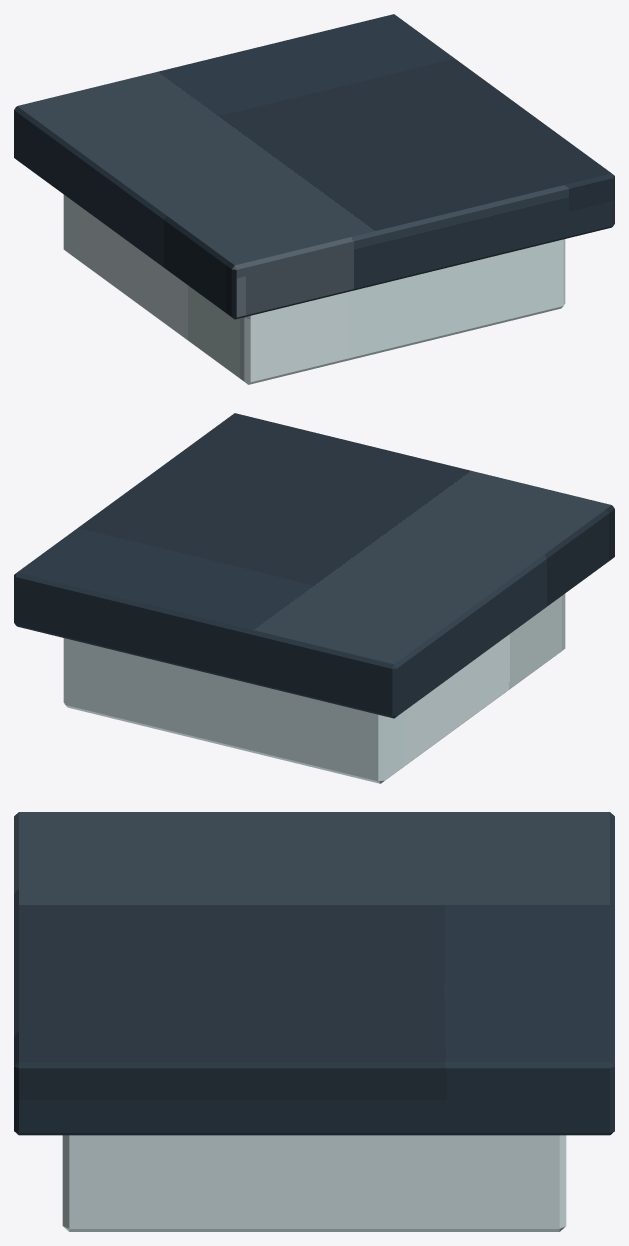
The model's file is ceiling_light_cool.glb.
3 views of the same model, one above another, from view 1: azimuth 30°, elevation 25°; view 2: azimuth 150°, elevation 25°; view 3: azimuth 270°, elevation 25° (orthographic). The views are drawn at different scales.
Parts seen in each view (by area): view 1: CeilingPlate, LightPanel; view 2: CeilingPlate, LightPanel; view 3: CeilingPlate, LightPanel.
Boxes of the visible parts, bbox=[...] form: CeilingPlate: bbox=[14, 14, 614, 319]; LightPanel: bbox=[63, 194, 565, 384]; CeilingPlate: bbox=[14, 413, 614, 718]; LightPanel: bbox=[63, 593, 565, 783]; CeilingPlate: bbox=[14, 812, 614, 1135]; LightPanel: bbox=[62, 1135, 566, 1231].
Size of the model in its own units: 0.74 by 0.26 by 0.74.
Materials: 1 (1 with a texture image).
